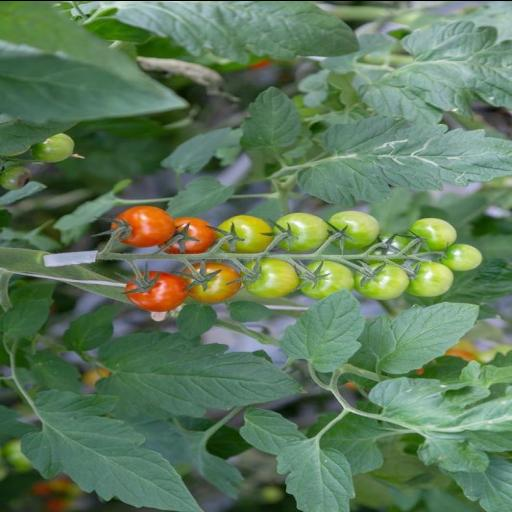Healthy: (20, 387, 206, 512), (92, 327, 306, 421), (357, 300, 481, 374), (279, 287, 367, 372), (274, 435, 356, 512), (237, 82, 304, 152), (238, 406, 310, 454)
Leaf Miner: (295, 114, 512, 206)
